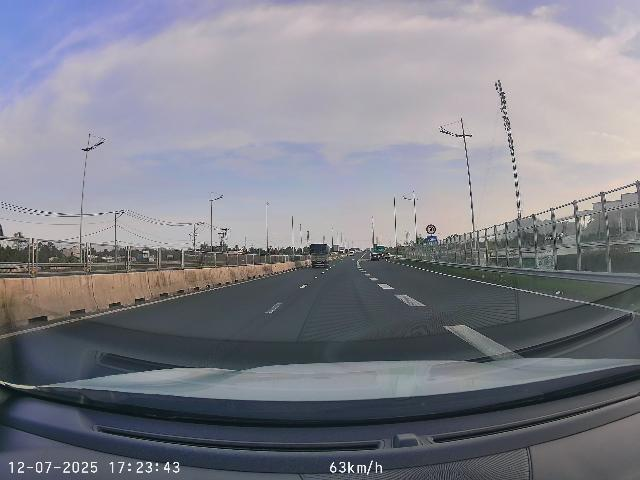127-toc-do-toi-da-50: (426, 224, 436, 235)
